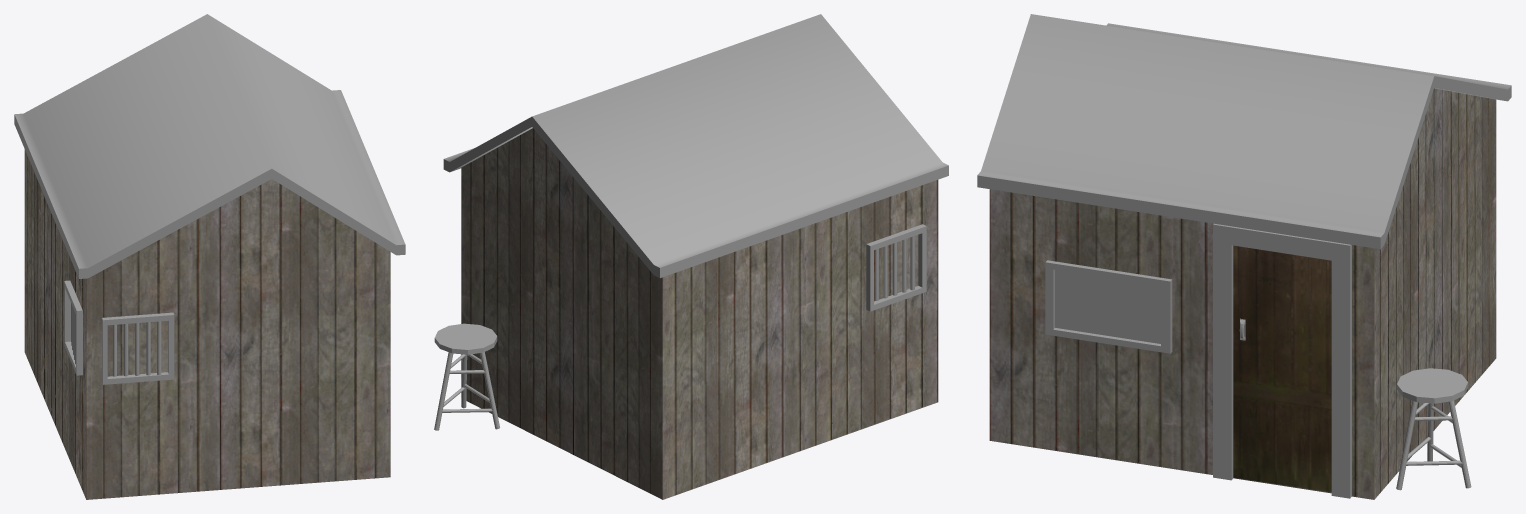
File: Jail.fbx
3 views of the same model, side by side, from view 1: azimuth 30°, elevation 25°; view 2: azimuth 150°, elevation 25°; view 3: azimuth 270°, elevation 25° (orthographic). The views are drawn at different scales.
Visible parts, largest first — view 1: polySurface1, pCube222, pCube221; view 2: polySurface1, polySurface122, pCube221; view 3: polySurface1, pCube220, polySurface122.
Part boxes in pixels (x1,y1,x2,y2): polySurface1: (14,14,405,499); pCube222: (102,312,174,384); pCube221: (64,280,82,375); polySurface1: (443,14,948,499); polySurface122: (434,323,499,430); pCube221: (866,224,926,311); polySurface1: (977,14,1511,499); pCube220: (1045,260,1172,353); polySurface122: (1396,368,1471,490).
Bounding box in the file's own units: 105 × 84.47 × 111.
